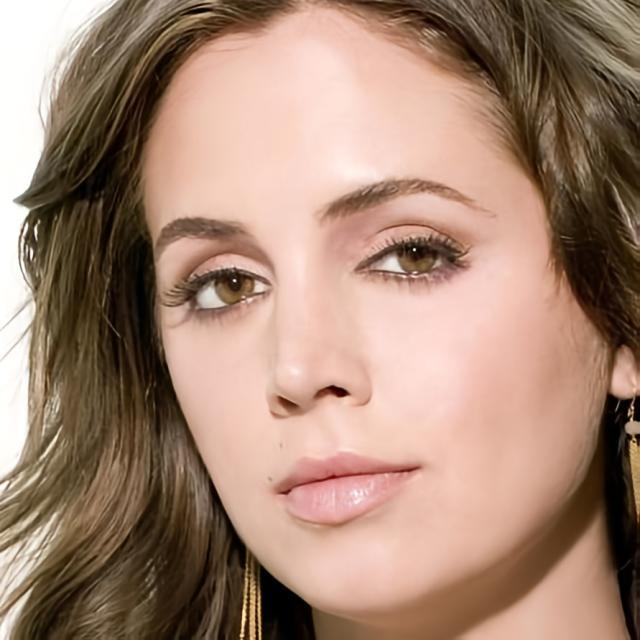neutral: (148, 24, 590, 615)
